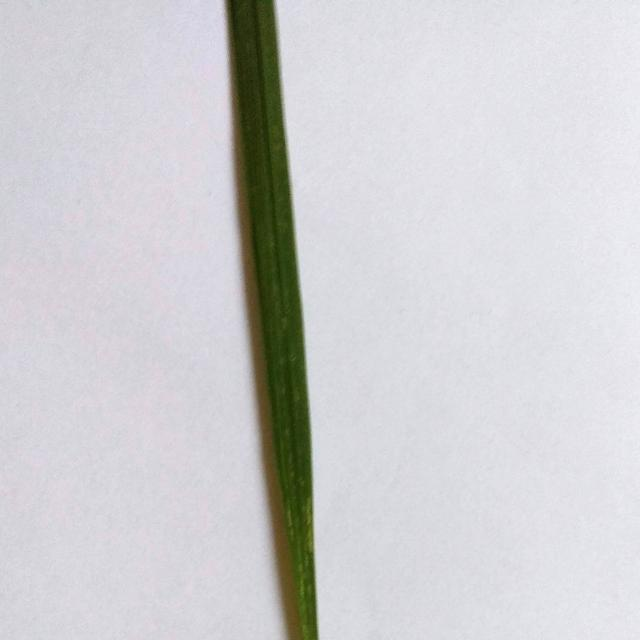Rice_Healthy: (227, 0, 318, 640)
